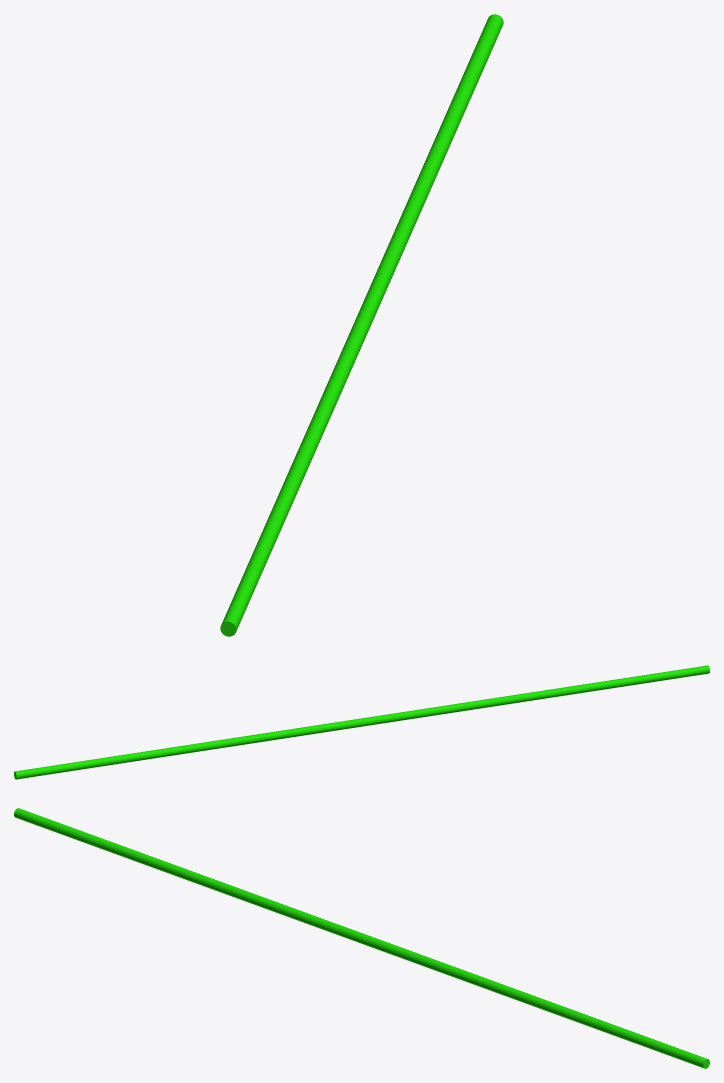
3 renders of one model, top to bottom at view 1: azimuth 30°, elevation 25°; view 2: azimuth 150°, elevation 25°; view 3: azimuth 270°, elevation 25°, orthographic. The views are drawn at different scales.
Visible parts, largest first — view 1: Циліндр; view 2: Циліндр; view 3: Циліндр.
Boxes of the visible parts, box(x1,y1,x2,y2) form: Циліндр: box(220, 14, 503, 636); Циліндр: box(14, 665, 709, 779); Циліндр: box(14, 808, 709, 1068).
Size of the model in its own units: 6.59 by 0.1436 by 7.71.
